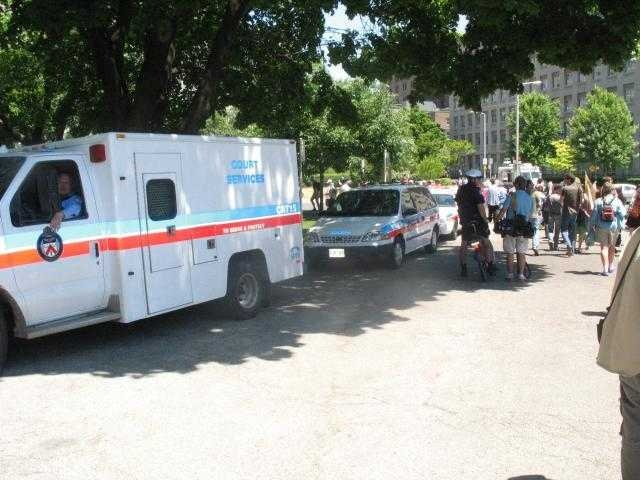Ambulance: (7, 119, 313, 346)
